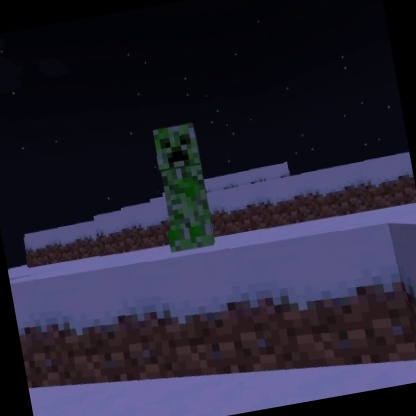creeper: (146, 117, 220, 257)
